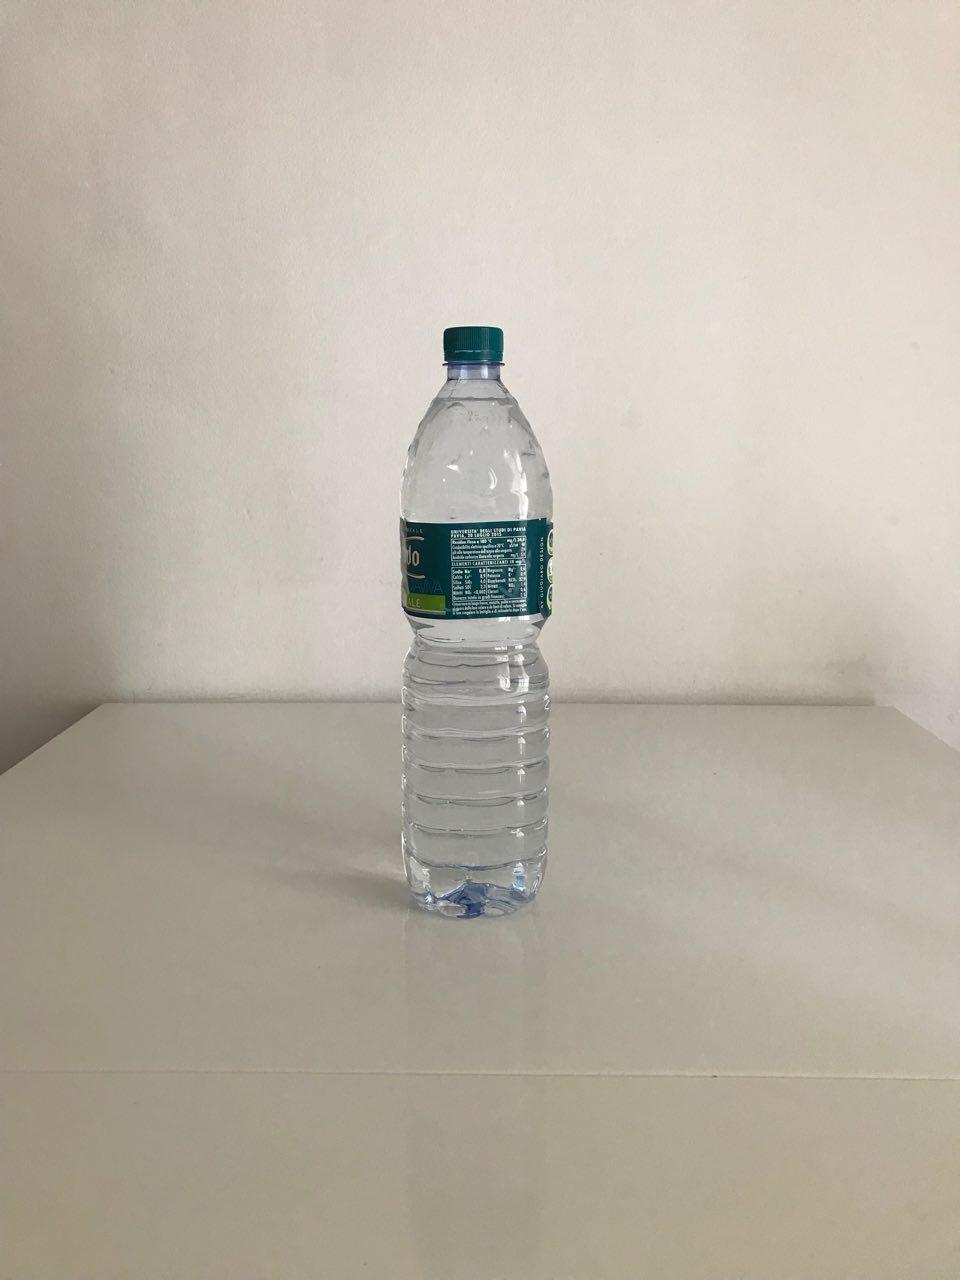san_bernardo: (396, 325, 557, 921)
